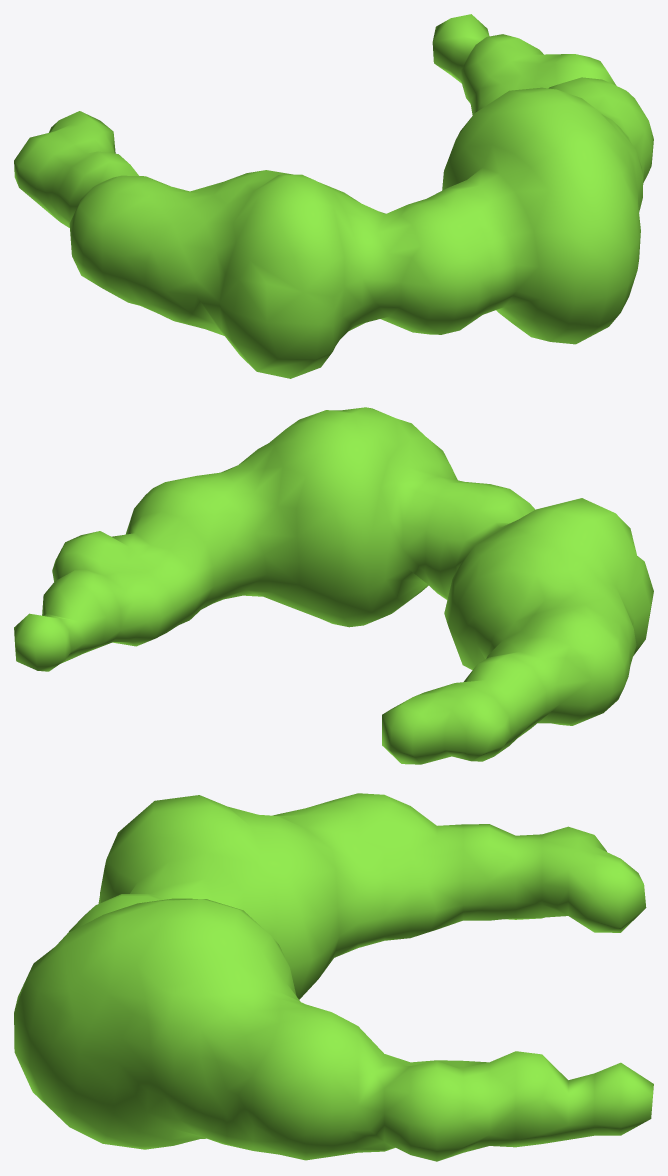
File: p_trashbot_trashball_wavetorus02_pose0.fbx
3 renders of one model, top to bottom at view 1: azimuth 30°, elevation 25°; view 2: azimuth 150°, elevation 25°; view 3: azimuth 270°, elevation 25°, orthographic. The views are drawn at different scales.
Parts seen in each view (by area): view 1: Wave_pose0; view 2: Wave_pose0; view 3: Wave_pose0.
Part boxes in pixels (<box>): Wave_pose0: <box>14,14,653,378</box>; Wave_pose0: <box>14,407,653,764</box>; Wave_pose0: <box>14,793,653,1161</box>.
Bounding box in the file's own units: 10.93 × 4.06 × 9.74.
